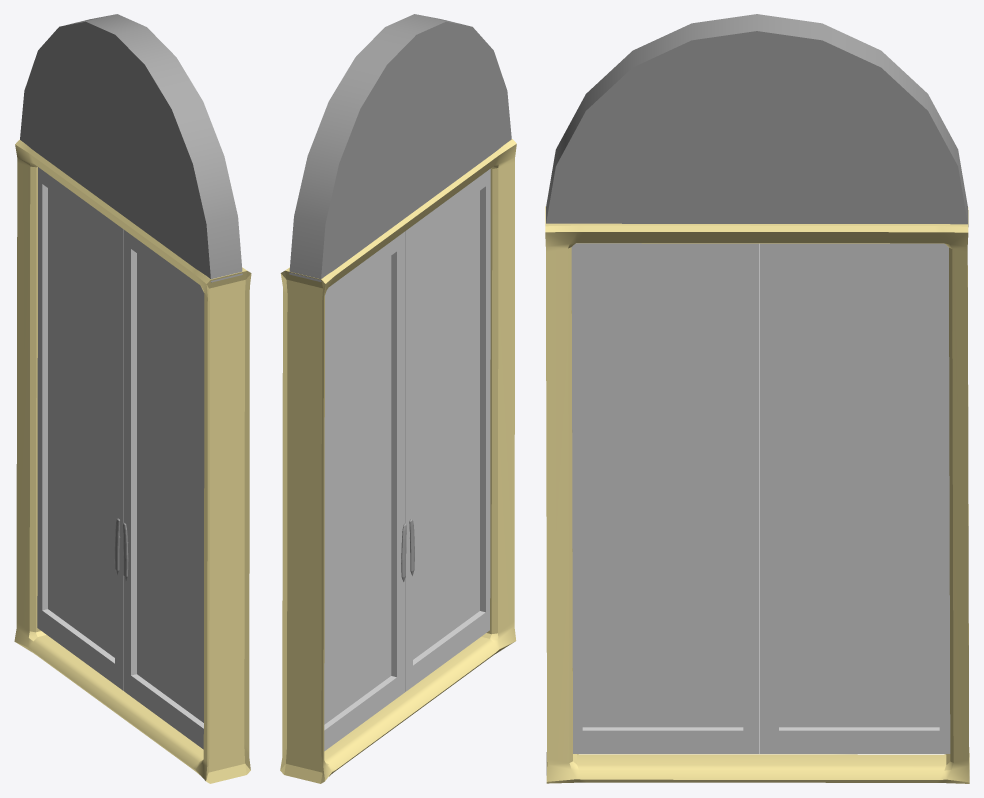
The model's file is Env_DoorFrame_Frames_01.fbx.
3 renders of one model, left to right at view 1: azimuth 30°, elevation 25°; view 2: azimuth 150°, elevation 25°; view 3: azimuth 270°, elevation 25°, orthographic. The views are drawn at different scales.
Visible parts, largest first — view 1: Env_DoorFrame_Glass_Base_01 (×2), Env_DoorFrame_WallFrame_01, Env_Door_Window_01, Env_DoorFrame_base_01 (×2); view 2: Env_DoorFrame_Glass_Base_01 (×2), Env_DoorFrame_WallFrame_01, Env_Door_Window_01, Env_DoorFrame_base_01 (×2); view 3: Env_DoorFrame_Glass_Base_01 (×2), Env_Door_Window_01, Env_DoorFrame_WallFrame_01, Env_DoorFrame_base_01 (×2).
Part boxes in pixels (x1=…): Env_DoorFrame_Glass_Base_01 (×2): x1=48, y1=188, x2=203, y2=722; Env_DoorFrame_WallFrame_01: x1=14, y1=139, x2=251, y2=783; Env_Door_Window_01: x1=20, y1=14, x2=242, y2=282; Env_DoorFrame_base_01 (×2): x1=37, y1=167, x2=204, y2=749; Env_DoorFrame_Glass_Base_01 (×2): x1=324, y1=191, x2=479, y2=724; Env_DoorFrame_WallFrame_01: x1=280, y1=139, x2=516, y2=783; Env_Door_Window_01: x1=289, y1=14, x2=511, y2=281; Env_DoorFrame_base_01 (×2): x1=324, y1=169, x2=490, y2=751; Env_DoorFrame_Glass_Base_01 (×2): x1=582, y1=259, x2=939, y2=727; Env_Door_Window_01: x1=546, y1=14, x2=968, y2=226; Env_DoorFrame_WallFrame_01: x1=545, y1=206, x2=969, y2=783; Env_DoorFrame_base_01 (×2): x1=571, y1=243, x2=950, y2=753.
Bounding box in the file's own units: 37.11 × 537 × 275.
